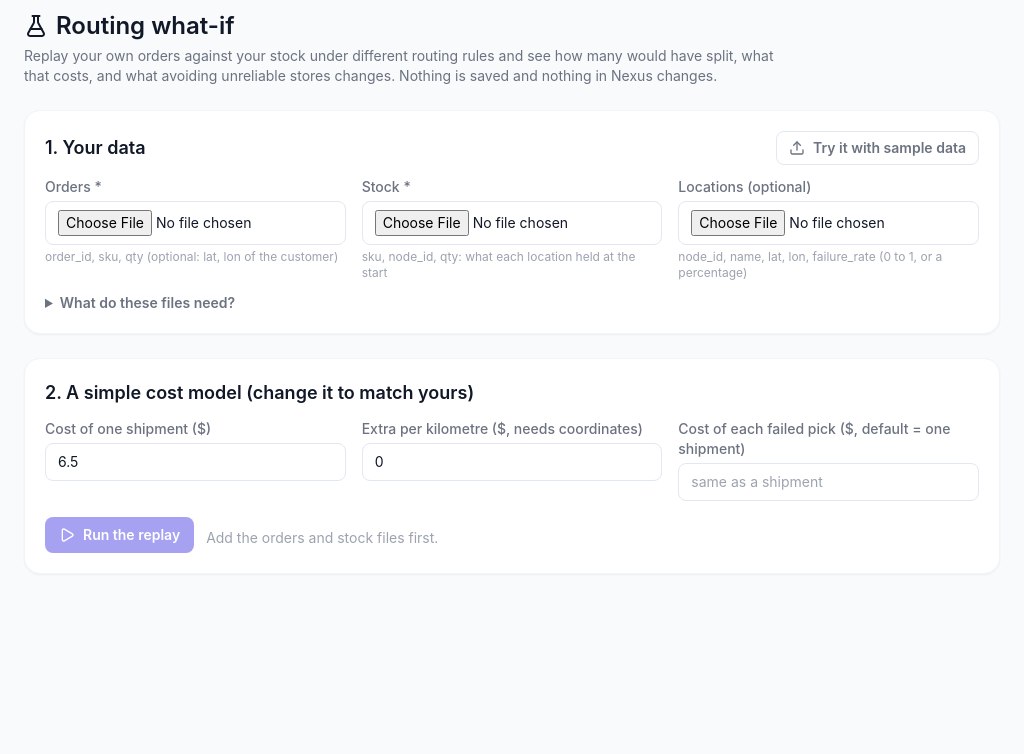
OrderReplayPage › the sample is labelled as invented, and a run shows the result with the caveats beside it
Click the button "Try it with sample data".
click(878, 148)  # box x1=776 y1=131 x2=979 y2=165
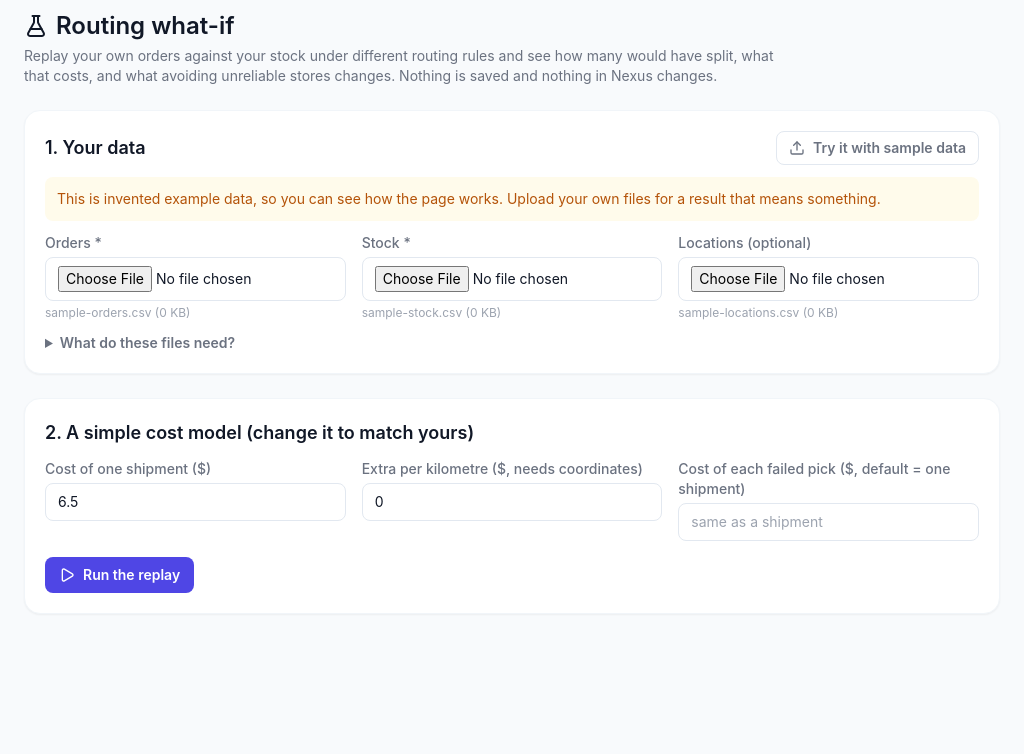
Check: the text "invented example data" is shown, box x1=57 y1=190 x2=881 y2=207
Check: the button "Run the replay" is enabled
Click the button "Run the replay".
click(120, 575)  # box x1=45 y1=557 x2=194 y2=593
(page scrolled)
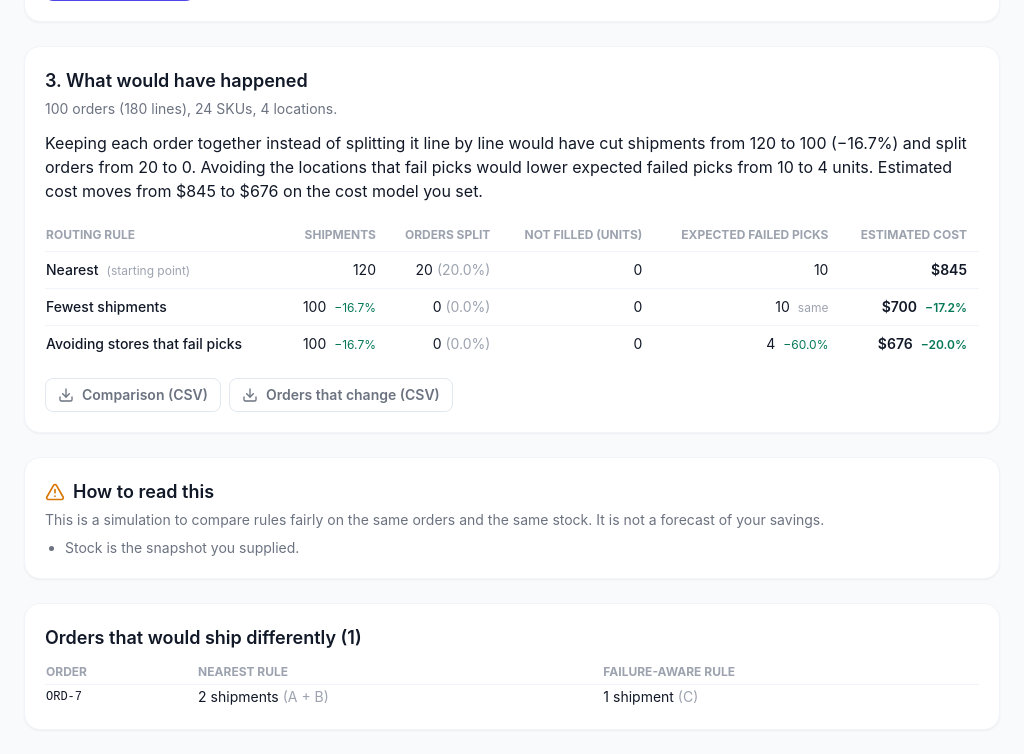
Check: the text "would have cut shipments from 120 to 100" is shown, box x1=45 y1=133 x2=967 y2=201
Check: the heading "How to read this" is shown, box x1=45 y1=481 x2=214 y2=502
Check: the text "not a forecast of your savings" is shown, box x1=45 y1=511 x2=824 y2=528
